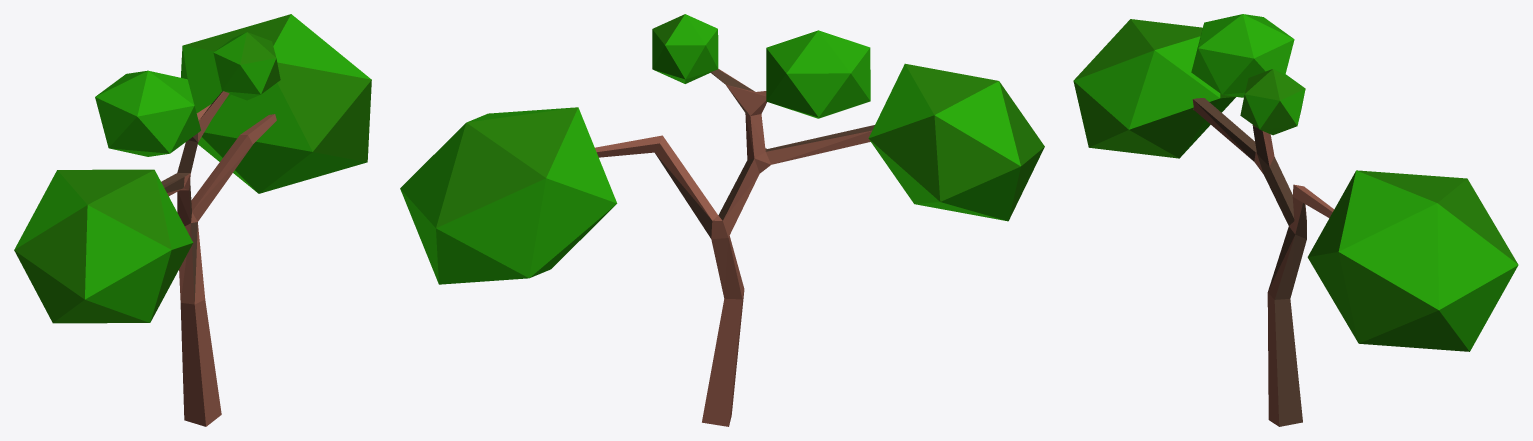
The model's file is TreeLeaves_02.fbx.
3 views of the same model, side by side, from view 1: azimuth 30°, elevation 25°; view 2: azimuth 150°, elevation 25°; view 3: azimuth 270°, elevation 25° (orthographic). The views are drawn at different scales.
Visible parts, largest first — view 1: Icosphere.006, Icosphere.007, TeeLeaves_02, Icosphere.005, Icosphere.004; view 2: Icosphere.007, Icosphere.006, TeeLeaves_02, Icosphere.005, Icosphere.004; view 3: Icosphere.007, Icosphere.006, TeeLeaves_02, Icosphere.005, Icosphere.004.
Boxes of the visible parts, x1,y1,x2,y2 form: Icosphere.006: [14, 169, 193, 323]; Icosphere.007: [181, 14, 371, 193]; TeeLeaves_02: [161, 91, 276, 426]; Icosphere.005: [95, 70, 200, 156]; Icosphere.004: [213, 32, 280, 100]; Icosphere.007: [400, 107, 617, 284]; Icosphere.006: [868, 63, 1044, 221]; TeeLeaves_02: [595, 69, 874, 426]; Icosphere.005: [766, 30, 870, 118]; Icosphere.004: [652, 14, 718, 83]; Icosphere.007: [1307, 170, 1518, 351]; Icosphere.006: [1073, 19, 1235, 158]; TeeLeaves_02: [1192, 98, 1333, 426]; Icosphere.005: [1191, 14, 1294, 97]; Icosphere.004: [1240, 69, 1305, 135].
Bounding box in the file's own units: 138 × 107 × 116.
